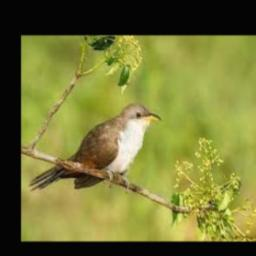Cuckoo: (28, 102, 161, 189)
